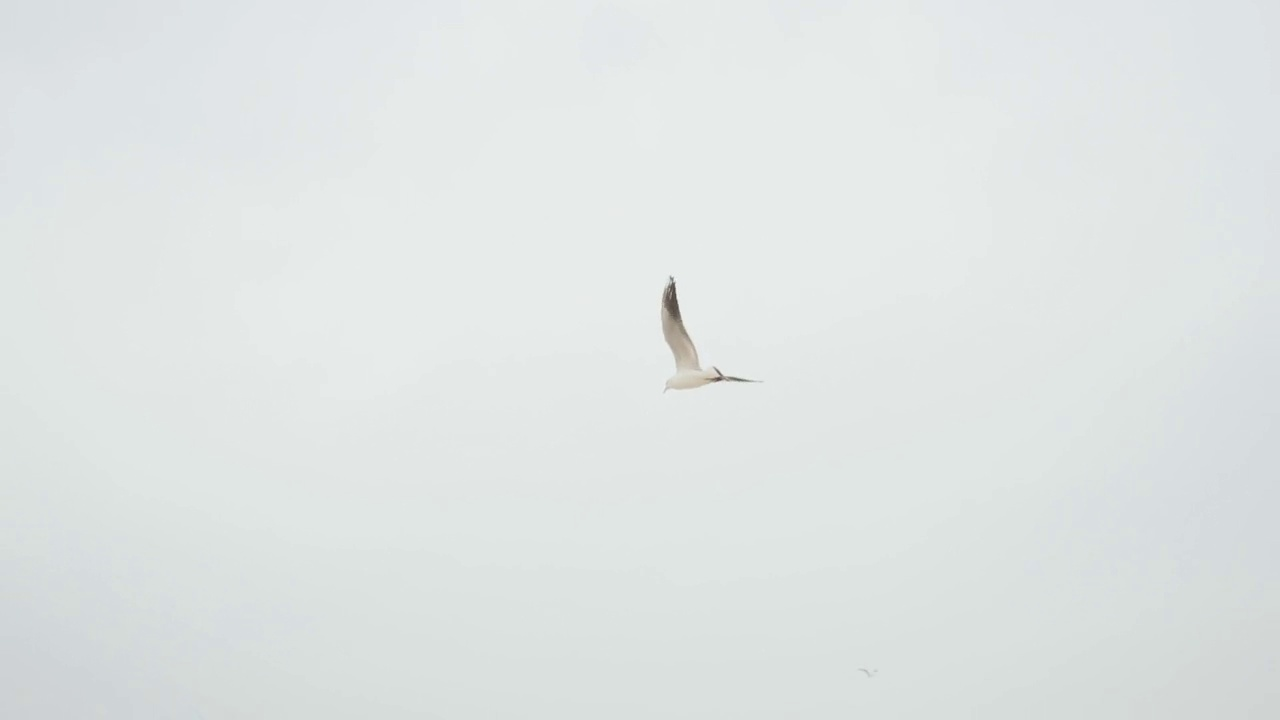bird: (660, 272, 760, 393)
